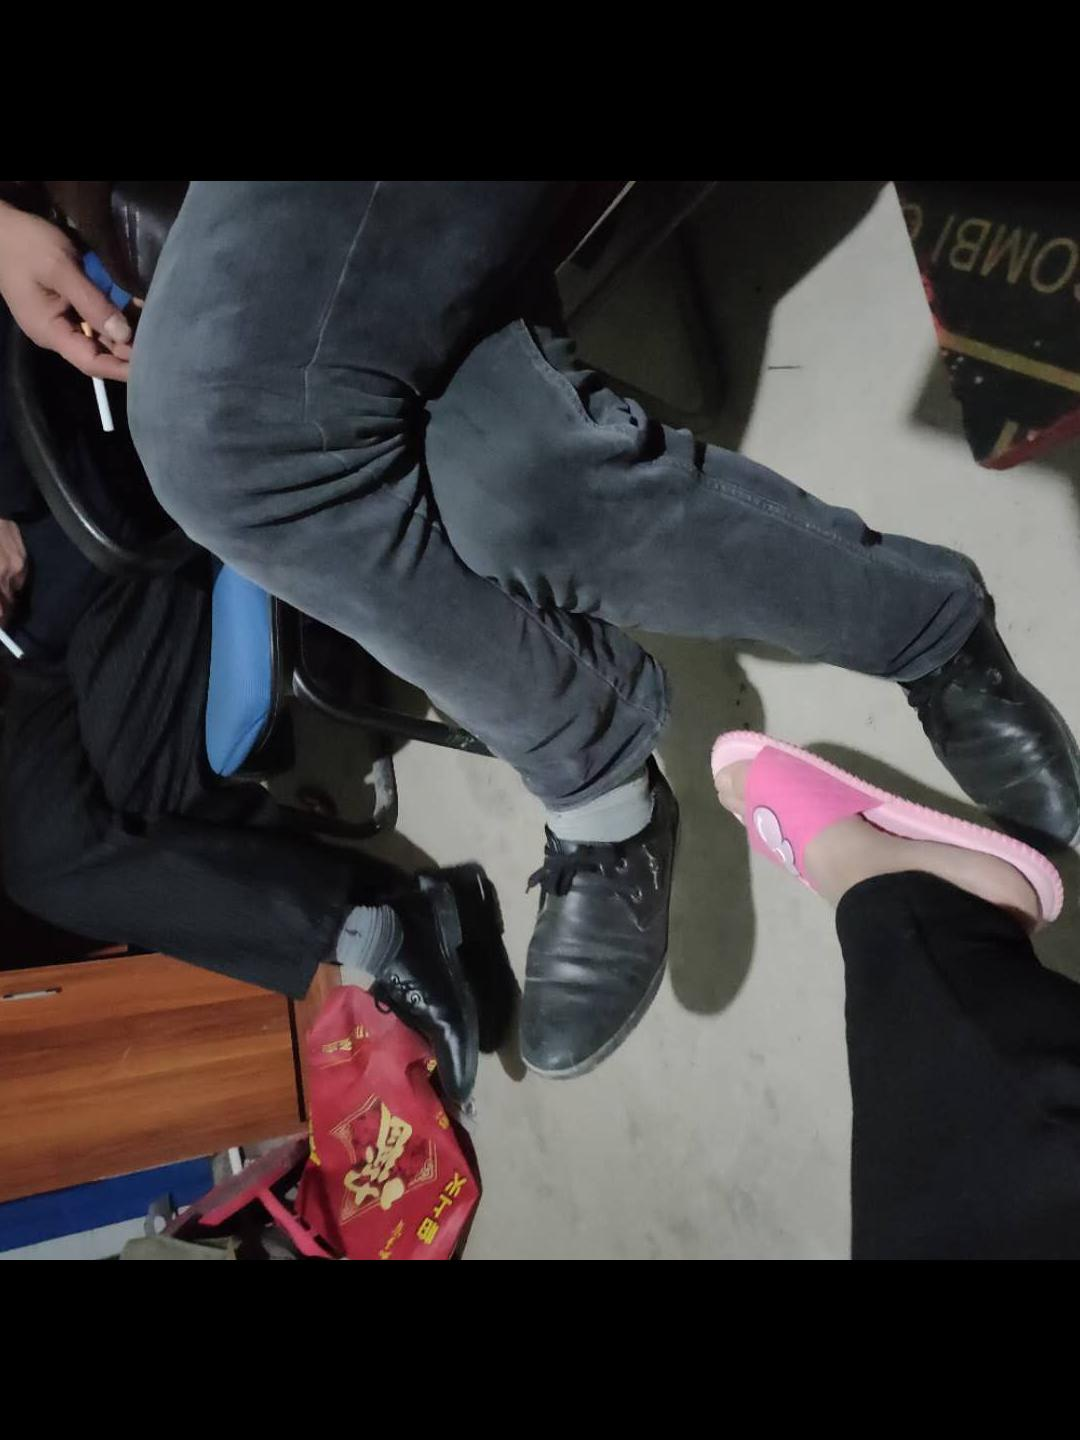Cigarette: (81, 323, 110, 427), (0, 618, 23, 657)
